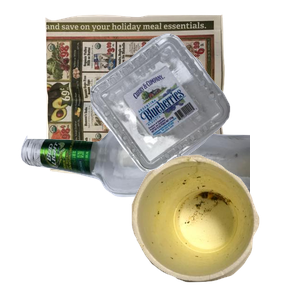glass: (18, 124, 258, 300)
paper: (42, 12, 260, 185)
plastic: (88, 31, 300, 198)
trash: (129, 152, 300, 300)
